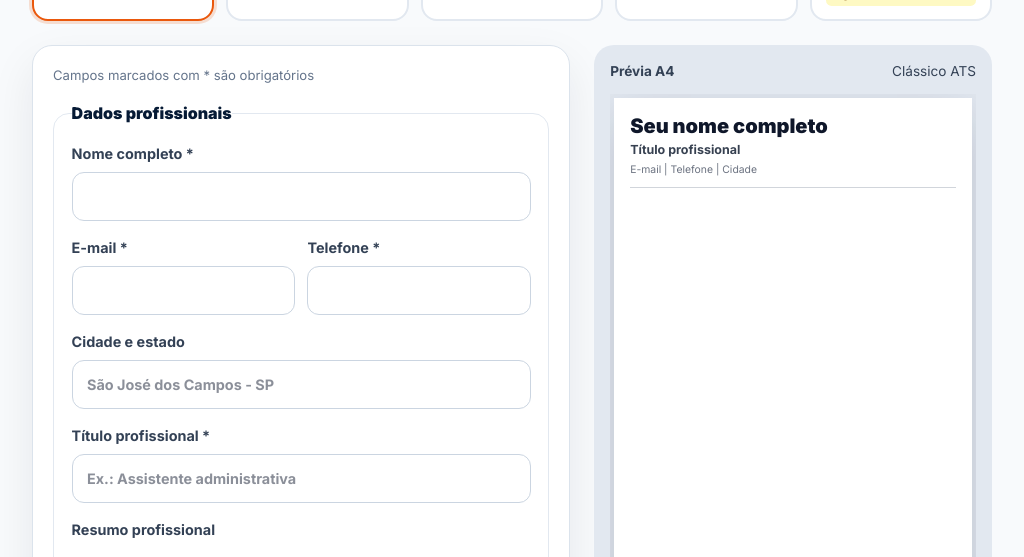
Test: ResumeBuilderTool › renders the local-processing notice and live preview
The width and height of the screenshot is (1024, 557).
(page scrolled)
Type "Ana Silva" into the field labelled "Nome completo *".
click(301, 196); type("Ana Silva")  # box [72,172,531,221]
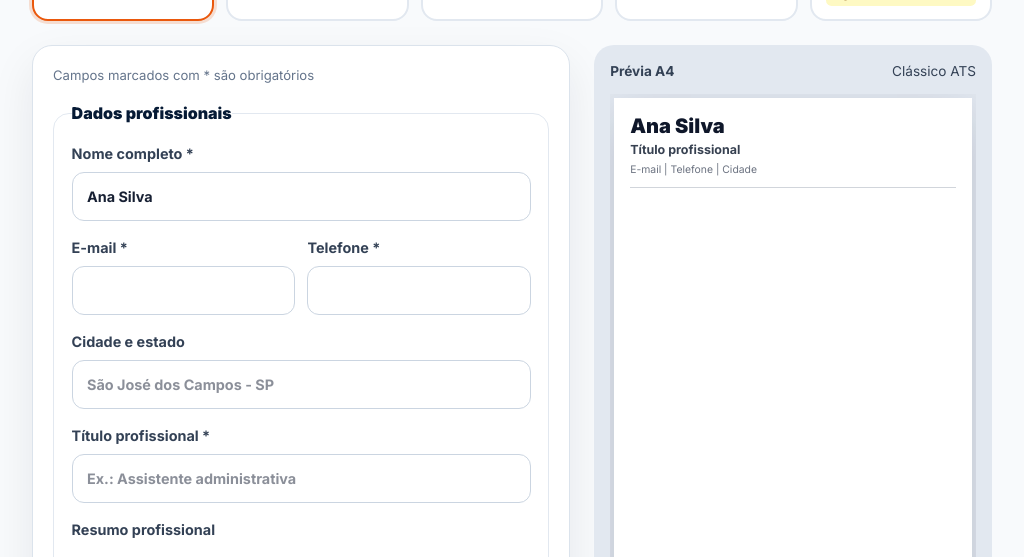
expect the heading "Ana Silva" is shown: met, box [630,114,725,138]
